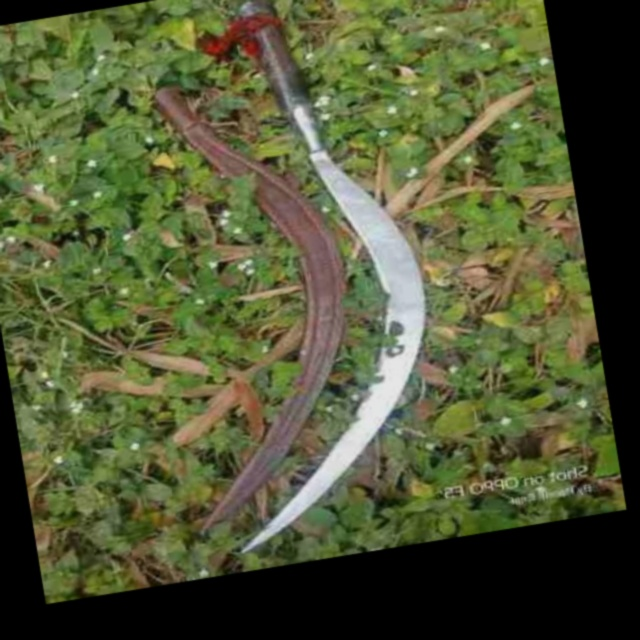Sharp-Object: (152, 0, 465, 572)
